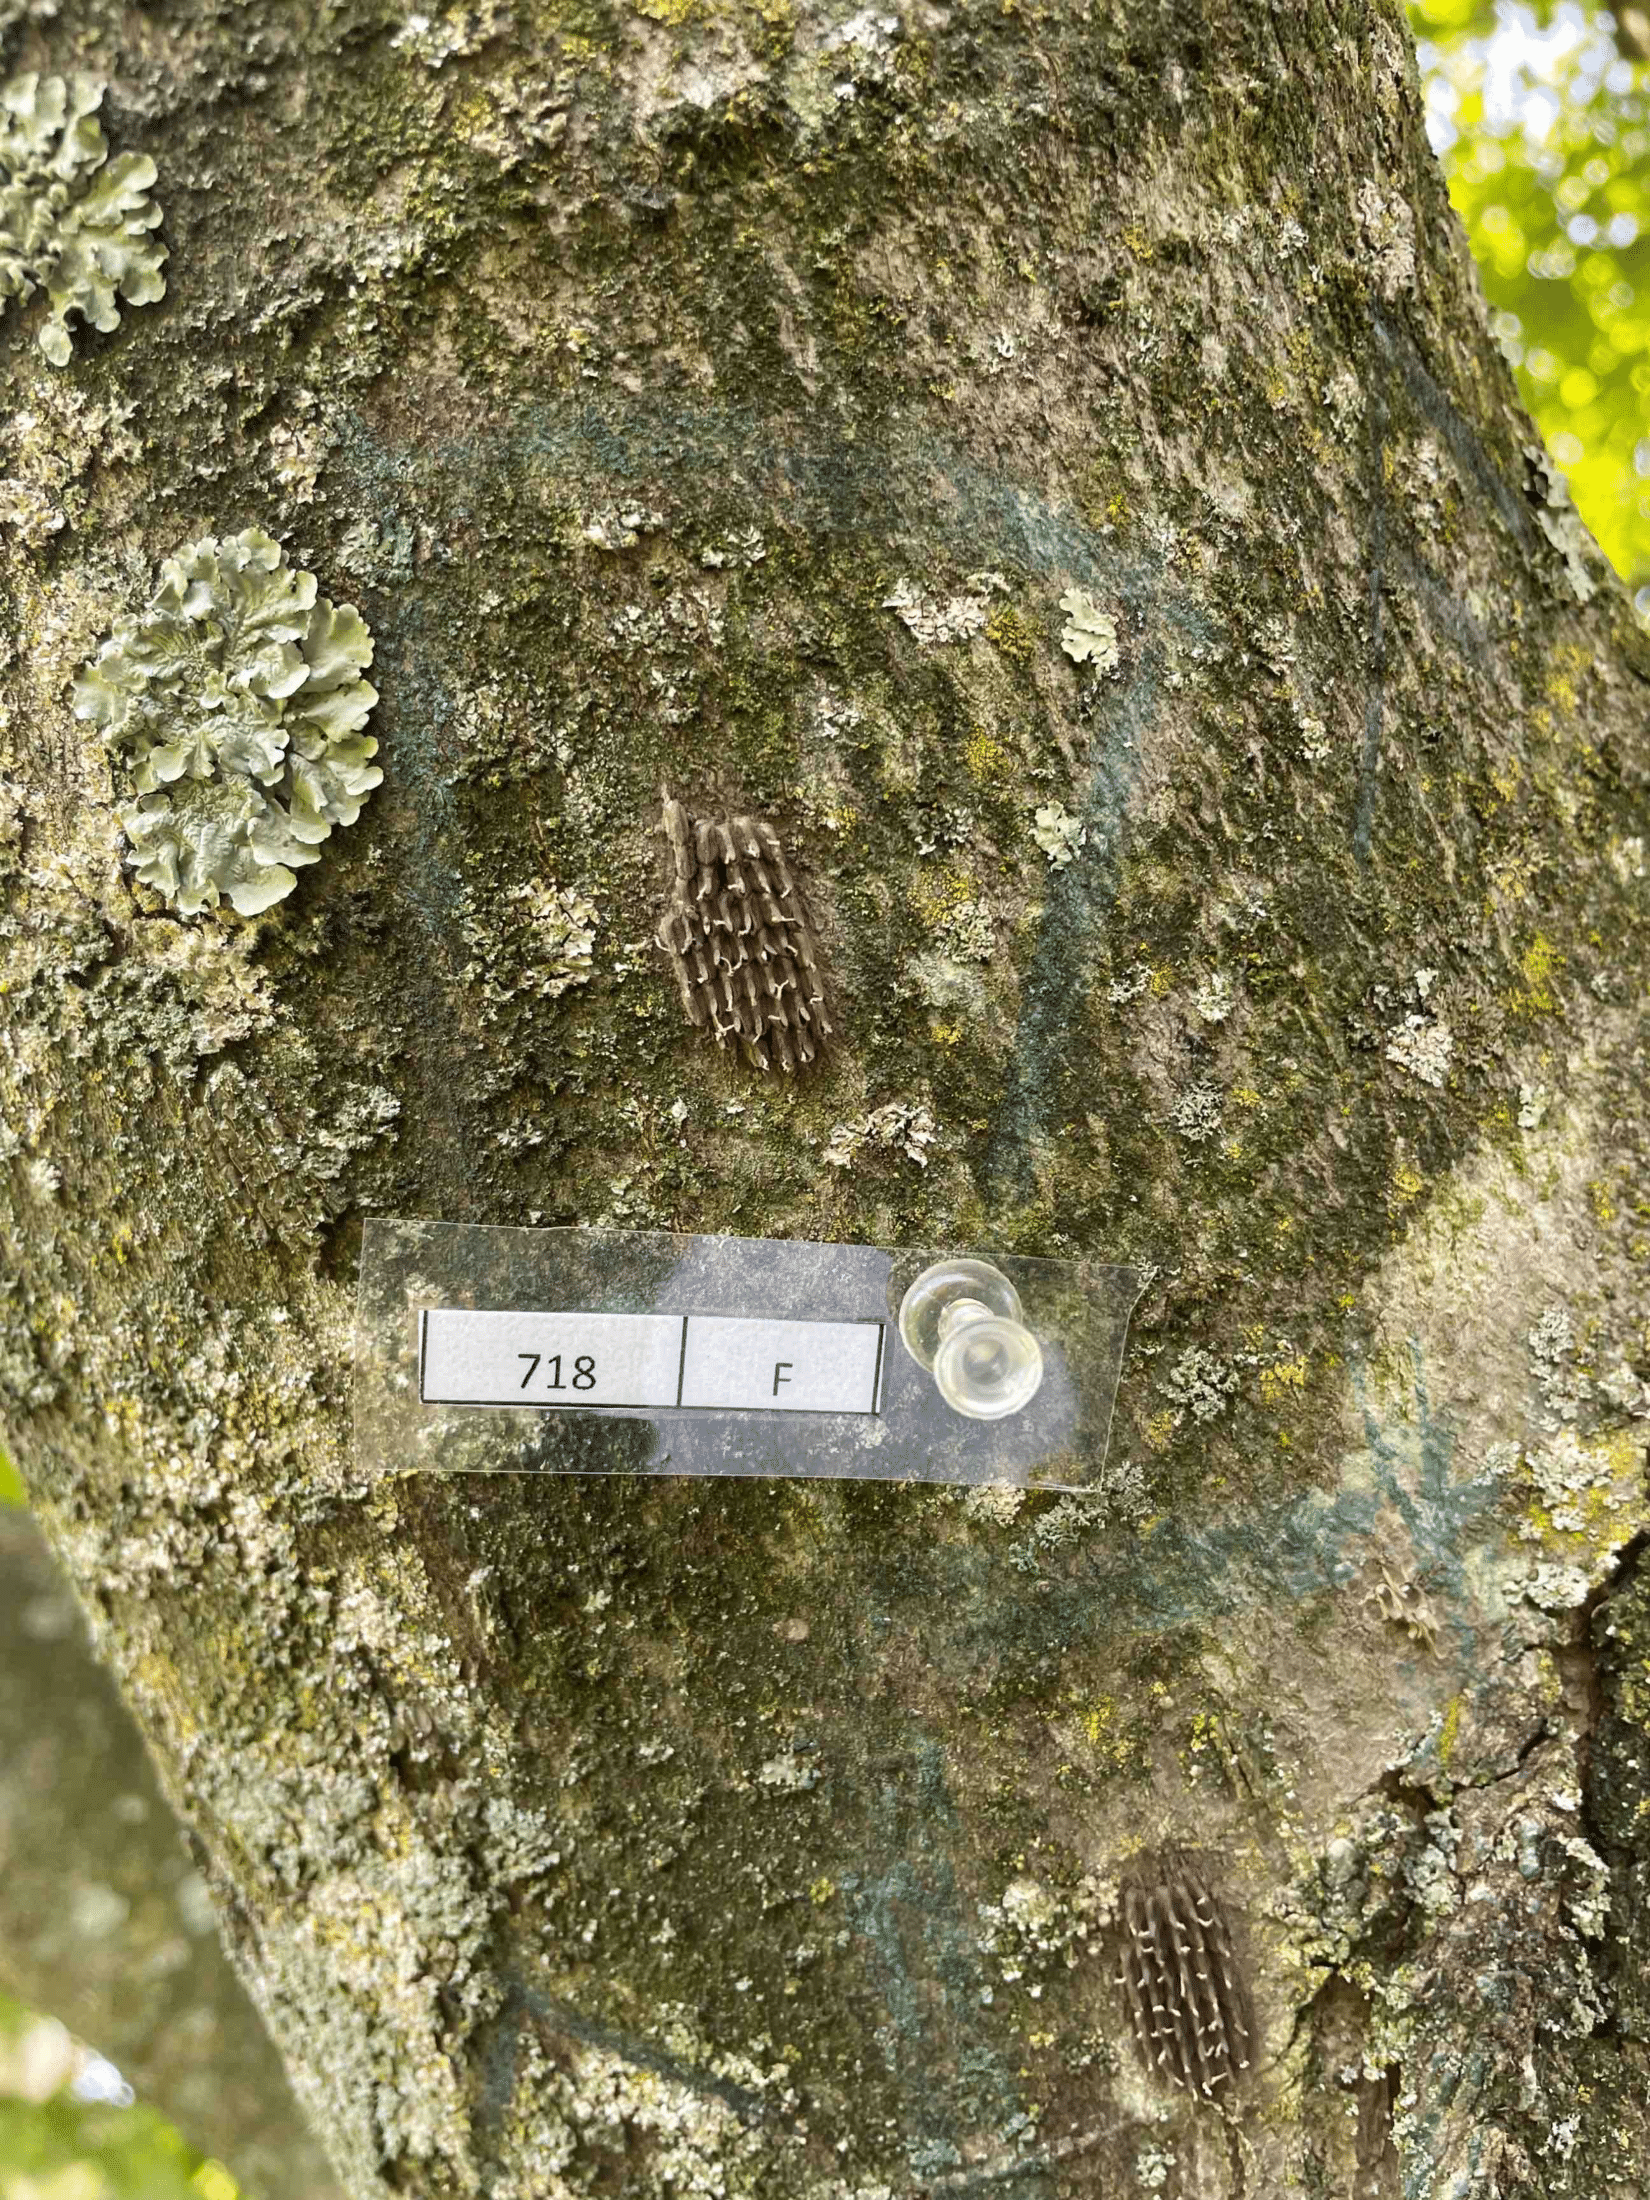egg masses: (582, 786, 939, 1057), (1075, 1840, 1321, 2132)
